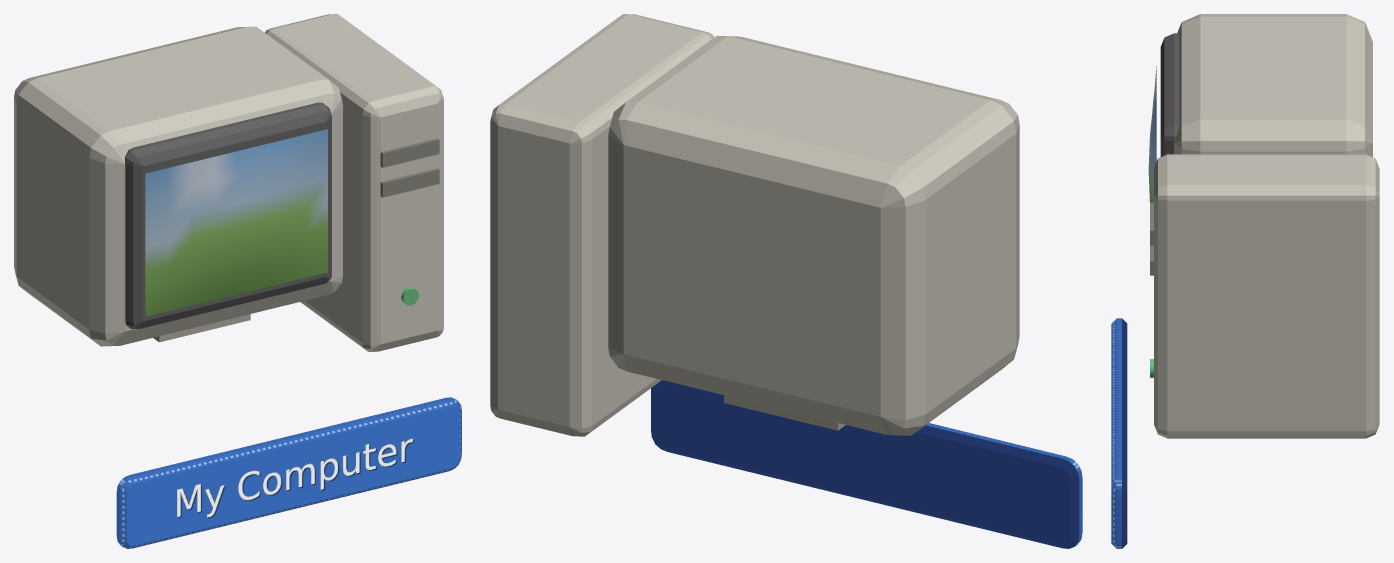
The model's file is icon-my-computer.glb.
The picture shows the model from 3 angles, left to right: view 1: azimuth 30°, elevation 25°; view 2: azimuth 150°, elevation 25°; view 3: azimuth 270°, elevation 25°; orthographic projection. The views are drawn at different scales.
Visible parts, largest first — view 1: thing, label; view 2: thing, label; view 3: thing, label.
Part boxes in pixels (box(x1,y1,x2,y2)): thing: box(14, 14, 443, 351); label: box(116, 397, 461, 548); thing: box(490, 14, 1019, 436); label: box(651, 380, 1082, 548); thing: box(1148, 14, 1379, 438); label: box(1111, 318, 1127, 548).
Size of the model in its own units: 0.305 by 0.32 by 0.202.
2 materials, 1 textured.
